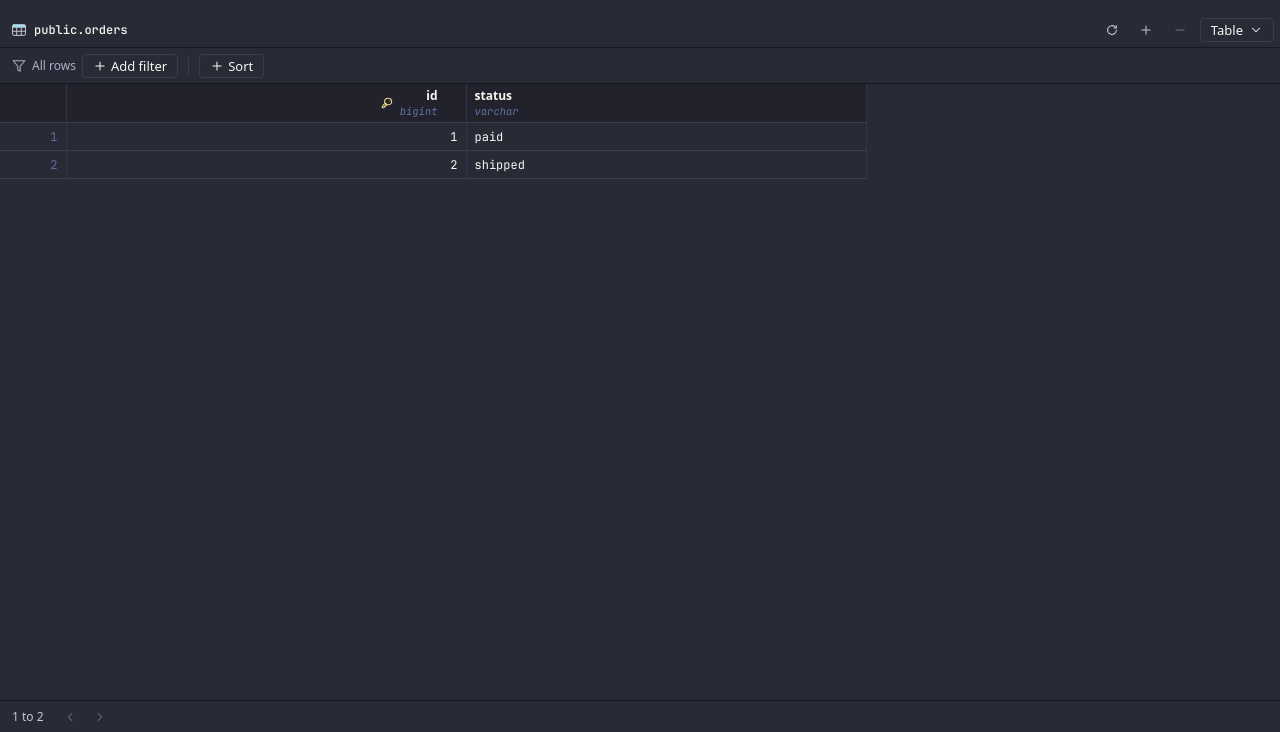
Test: bar_sits_above_the_footer_with_chip_summary_and_actions
Expected: the text "paid" is shown, [474, 128, 503, 144]
An edited cell, a new row and a deleted row.
Double-click the cell "paid" at (666, 136), box [466, 122, 866, 150]
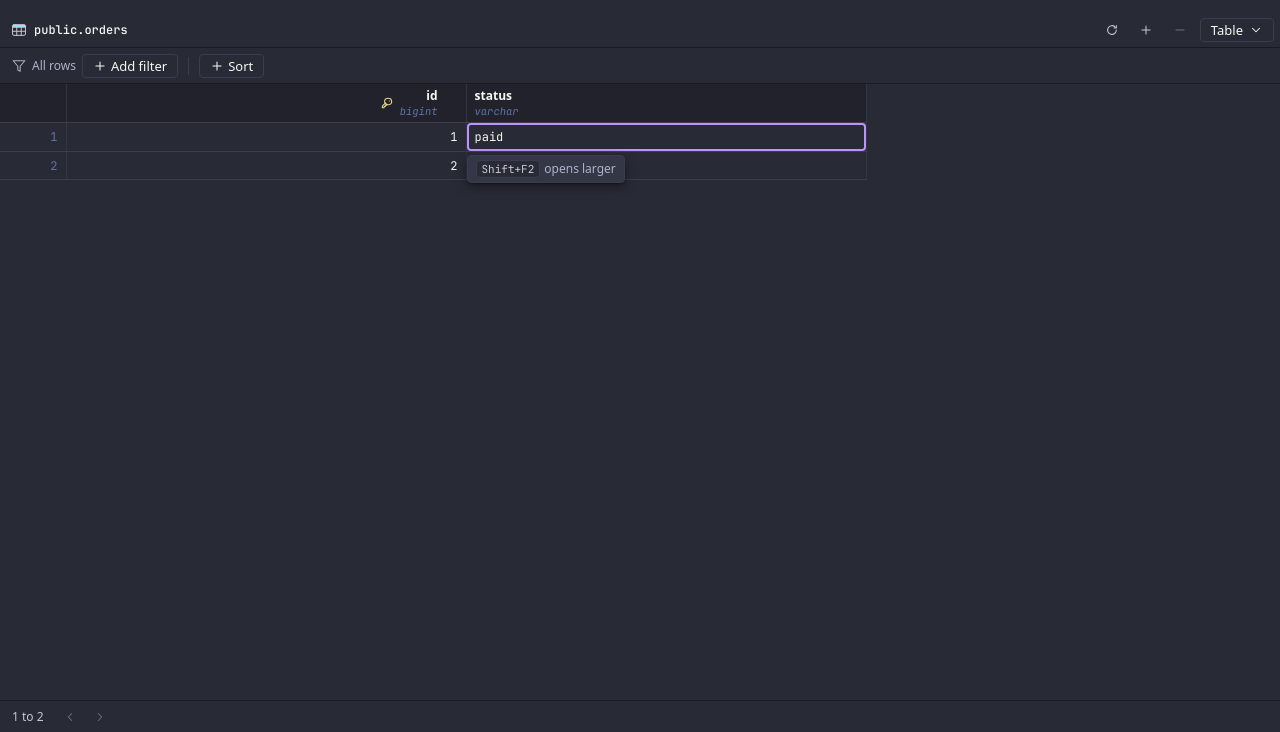
Replace the text in the text box named "Cell value" with "cancelled". click: (666, 137)
box: [466, 123, 866, 151]
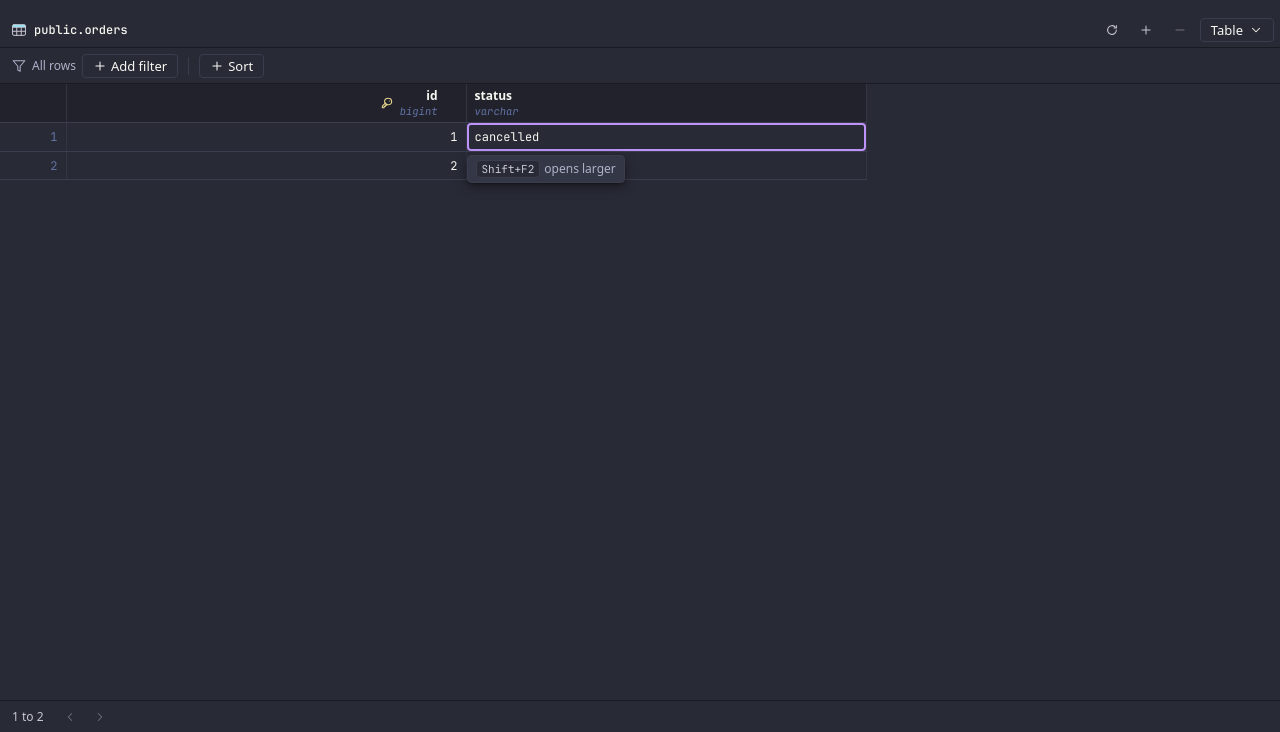
Press Enter in the text box named "Cell value", box [466, 123, 866, 151]
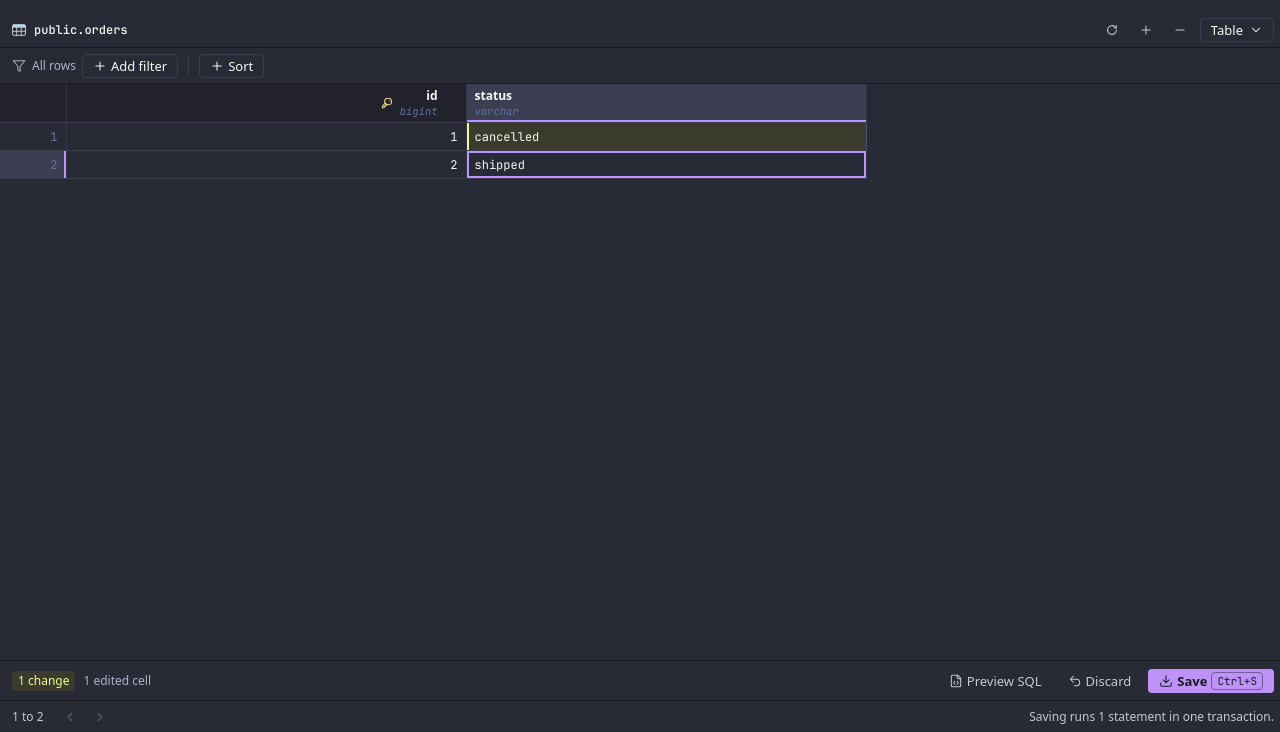
Click the button named "Add row". click: (1146, 30)
box: [1132, 16, 1160, 44]
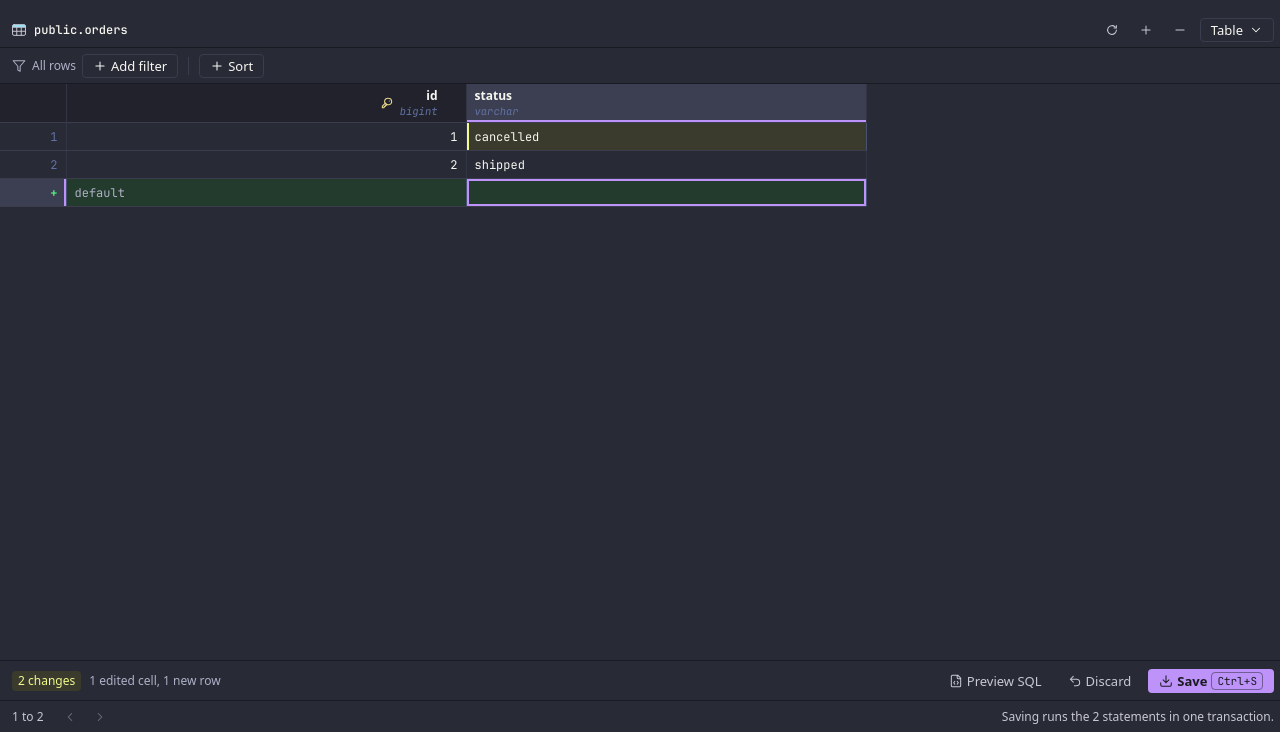
Right-click the cell "shipped" at (666, 164), box [466, 150, 866, 178]
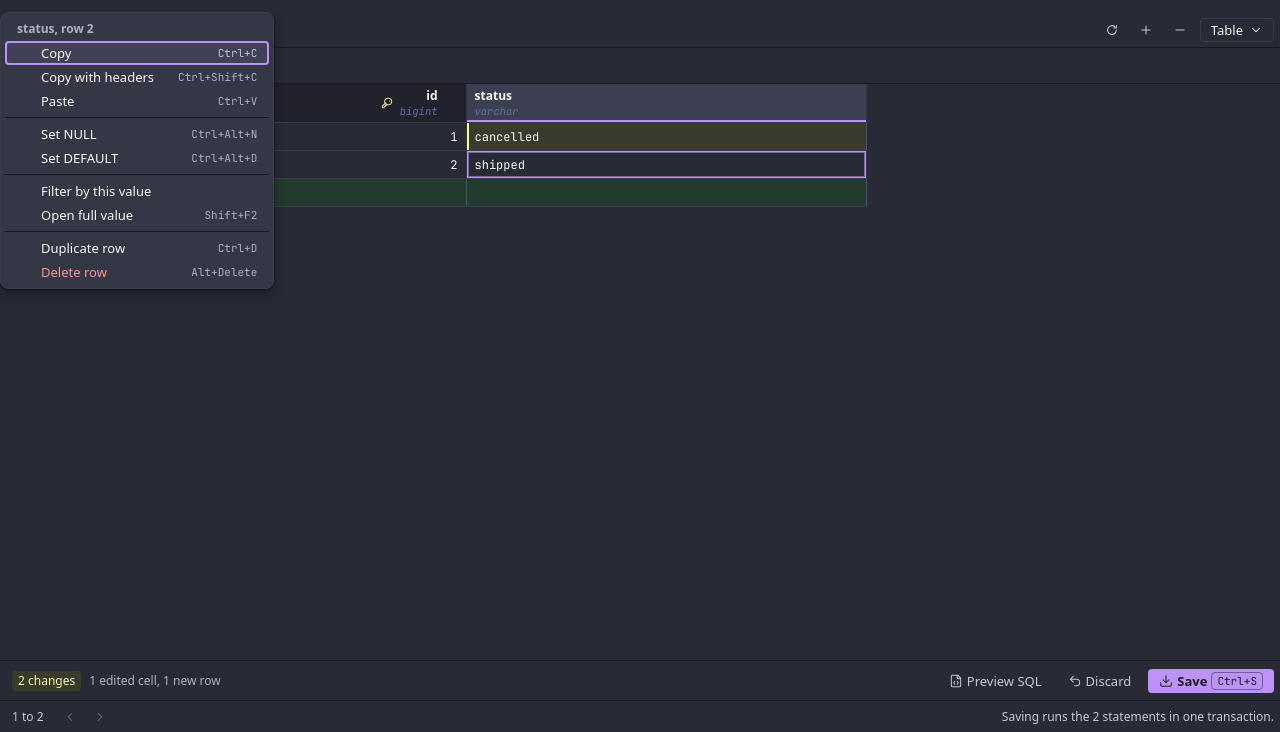
Click the menu item "Delete row Alt+Delete". click: (74, 272)
box: [5, 260, 269, 284]
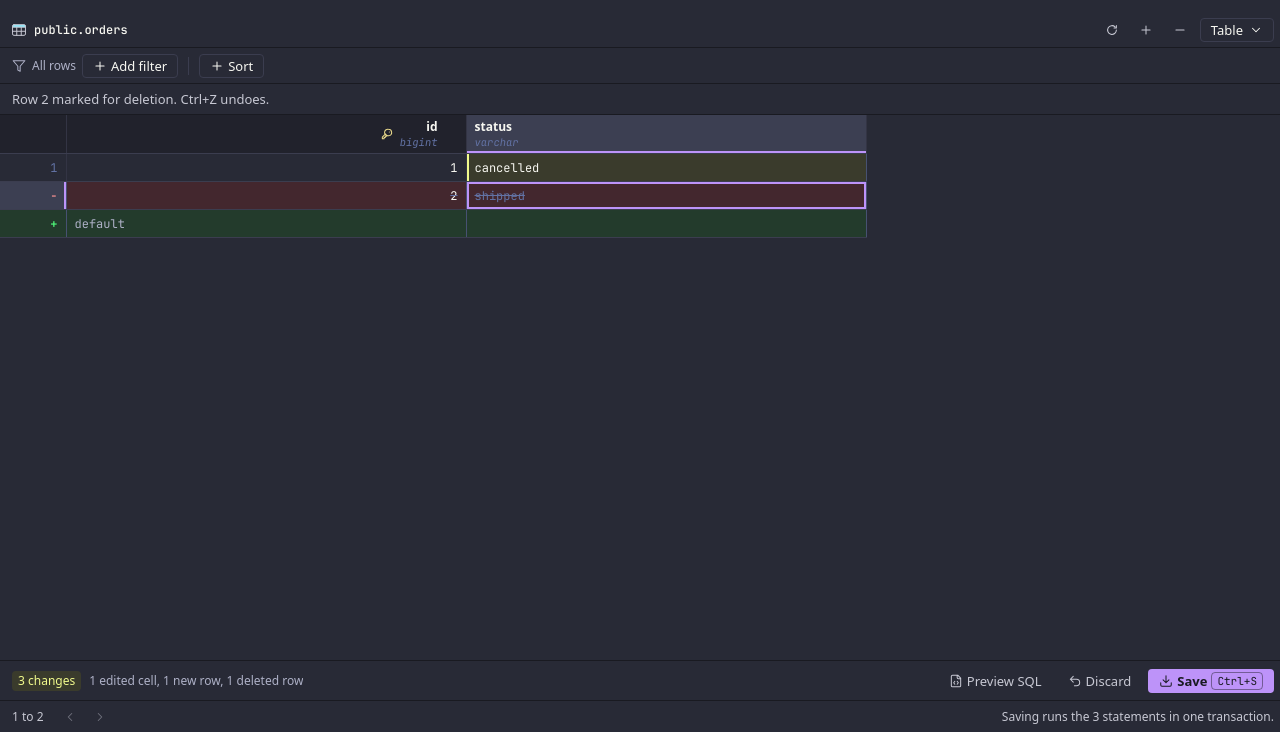
Now the text "Ctrl+S" is shown, box [1211, 672, 1263, 690]
Now the text with class "edits-count" reads "3 changes", box [18, 672, 75, 688]
Now the text with class "edits-summary" reads "1 edited cell, 1 new row, 1 deleted row", box [89, 672, 303, 688]
